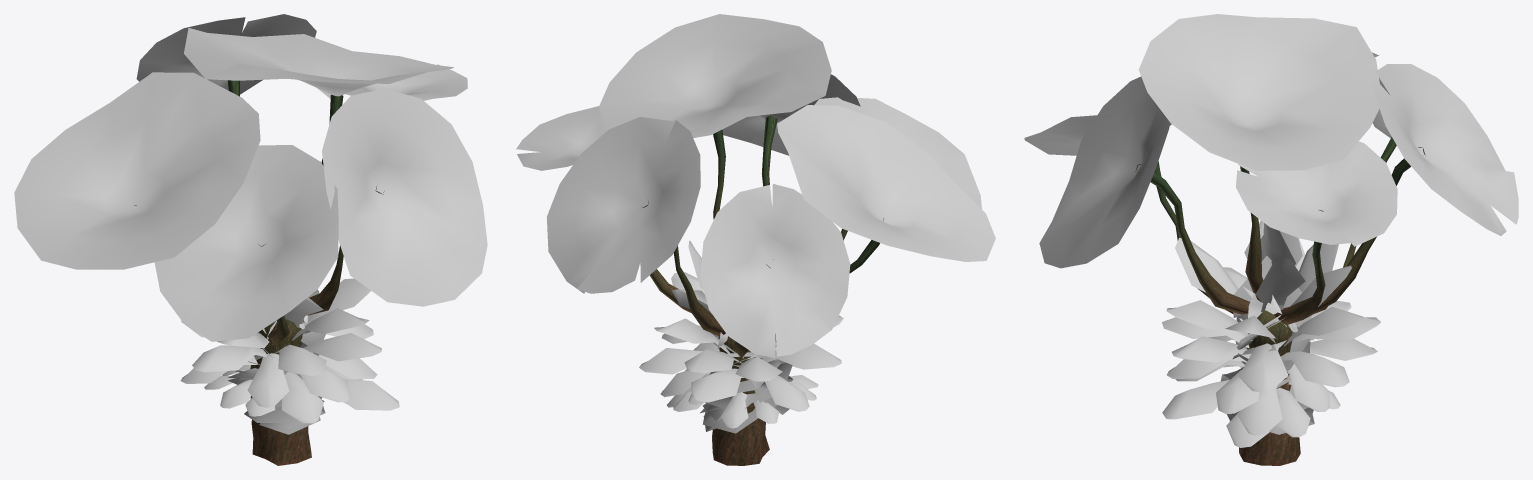
File: Plant2_2_L2.fbx
3 views of the same model, side by side, from view 1: azimuth 30°, elevation 25°; view 2: azimuth 150°, elevation 25°; view 3: azimuth 270°, elevation 25° (orthographic). The views are drawn at different scales.
Parts seen in each view (by area): view 1: polySurface40; view 2: polySurface40; view 3: polySurface40.
Part boxes in pixels (x1,y1,x2,y2): polySurface40: (14, 14, 487, 465); polySurface40: (516, 14, 995, 465); polySurface40: (1024, 14, 1518, 465).
Size of the model in its own units: 377 by 330 by 357.
